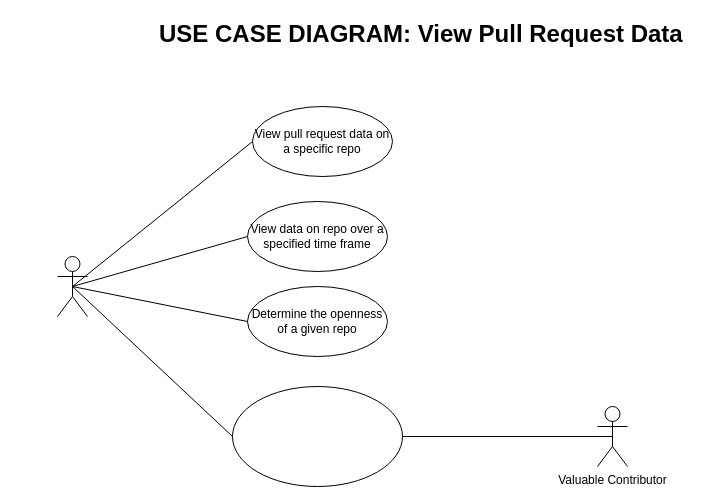
Some shapes in this 715 by 504 pixel diagram are drawn without their labels. Here are the shapes that lost their labels. From the top down, the centre of each, then its label:
(72,286): Open Source Community Manager
(317,436): Identify valuable contributors and work toward incentivizing them
